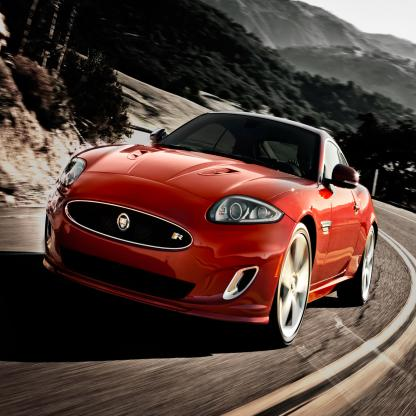Vehicle: (43, 110, 378, 346)
